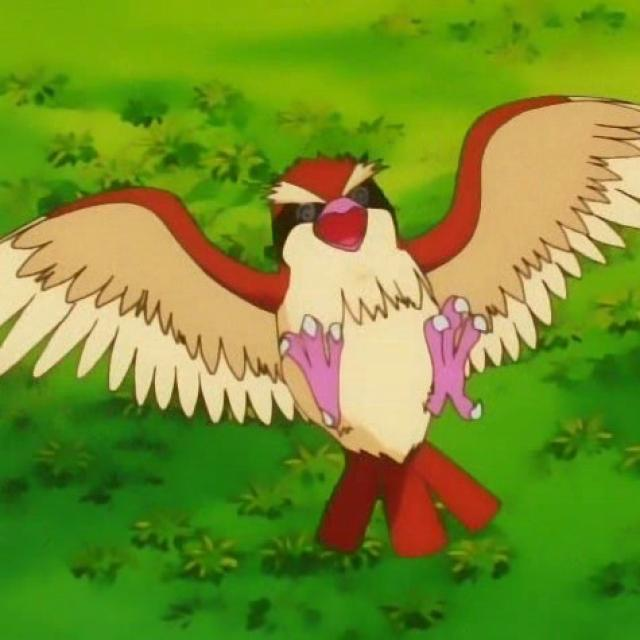Pidgey: (188, 156, 530, 554)
